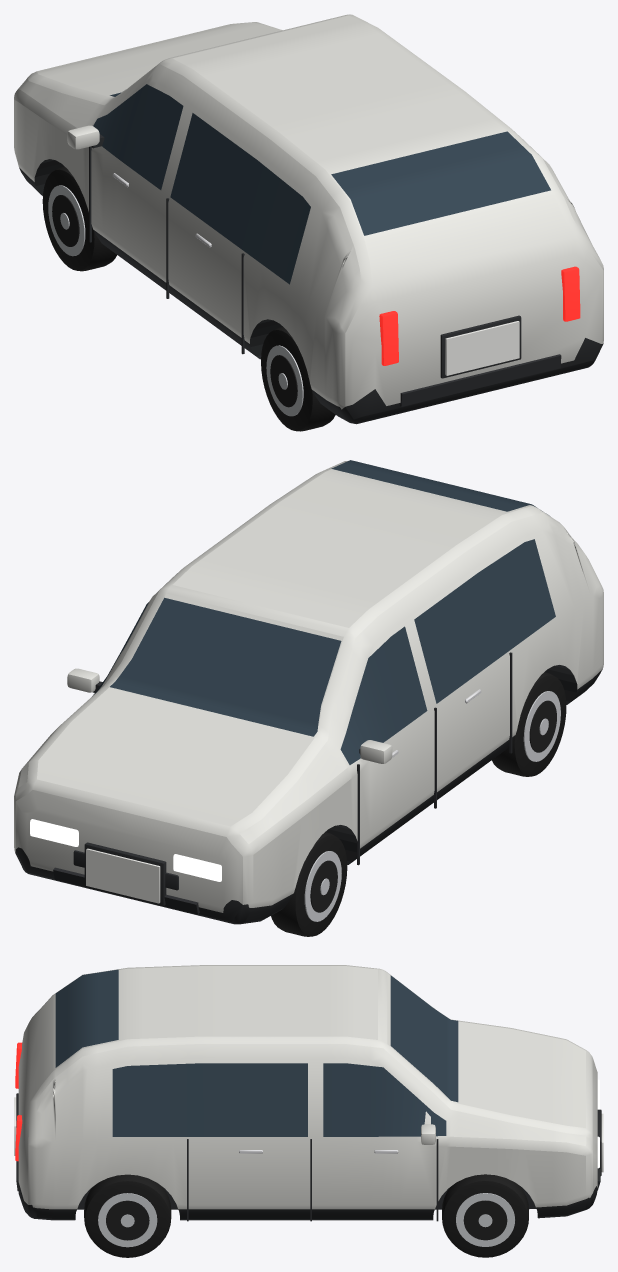
Rendered from hatchback.glb.
3 views of the same model, one above another, from view 1: azimuth 30°, elevation 25°; view 2: azimuth 150°, elevation 25°; view 3: azimuth 270°, elevation 25° (orthographic). The views are drawn at different scales.
Visible parts, largest first — view 1: CAR_hatchback; view 2: CAR_hatchback; view 3: CAR_hatchback.
Boxes of the visible parts, bbox=[...] form: CAR_hatchback: bbox=[14, 14, 603, 431]; CAR_hatchback: bbox=[14, 460, 603, 936]; CAR_hatchback: bbox=[14, 965, 603, 1257].
Bounding box in the file's own units: 2 × 1.52 × 3.92.
